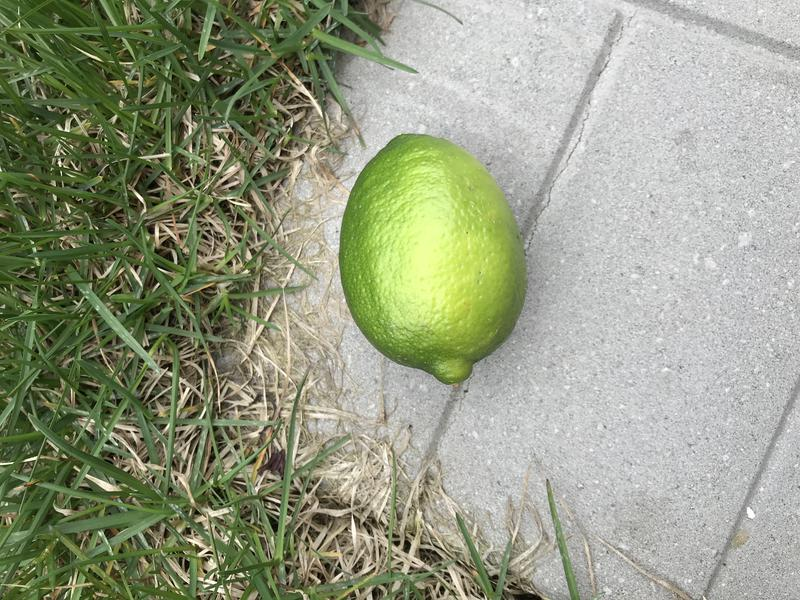lime: (332, 122, 539, 398)
